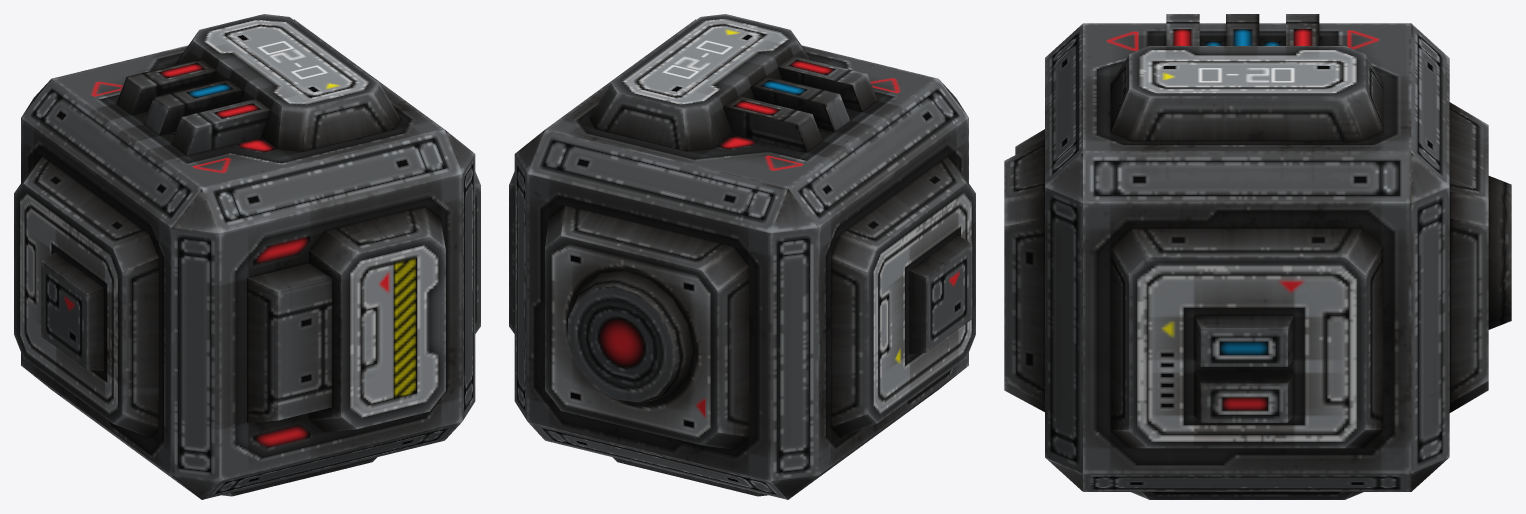
The model's file is sci_fi_space_cargo_container_3.FBX.
The picture shows the model from 3 angles, left to right: view 1: azimuth 30°, elevation 25°; view 2: azimuth 150°, elevation 25°; view 3: azimuth 270°, elevation 25°; orthographic projection. The views are drawn at different scales.
Parts seen in each view (by area): view 1: sci_fi_space_cargo_container_3; view 2: sci_fi_space_cargo_container_3; view 3: sci_fi_space_cargo_container_3.
Boxes of the visible parts, x1,y1,x2,y2 form: sci_fi_space_cargo_container_3: (14, 14, 480, 499); sci_fi_space_cargo_container_3: (509, 14, 975, 499); sci_fi_space_cargo_container_3: (1004, 14, 1511, 499).
Bounding box in the file's own units: 128 × 118 × 131.
